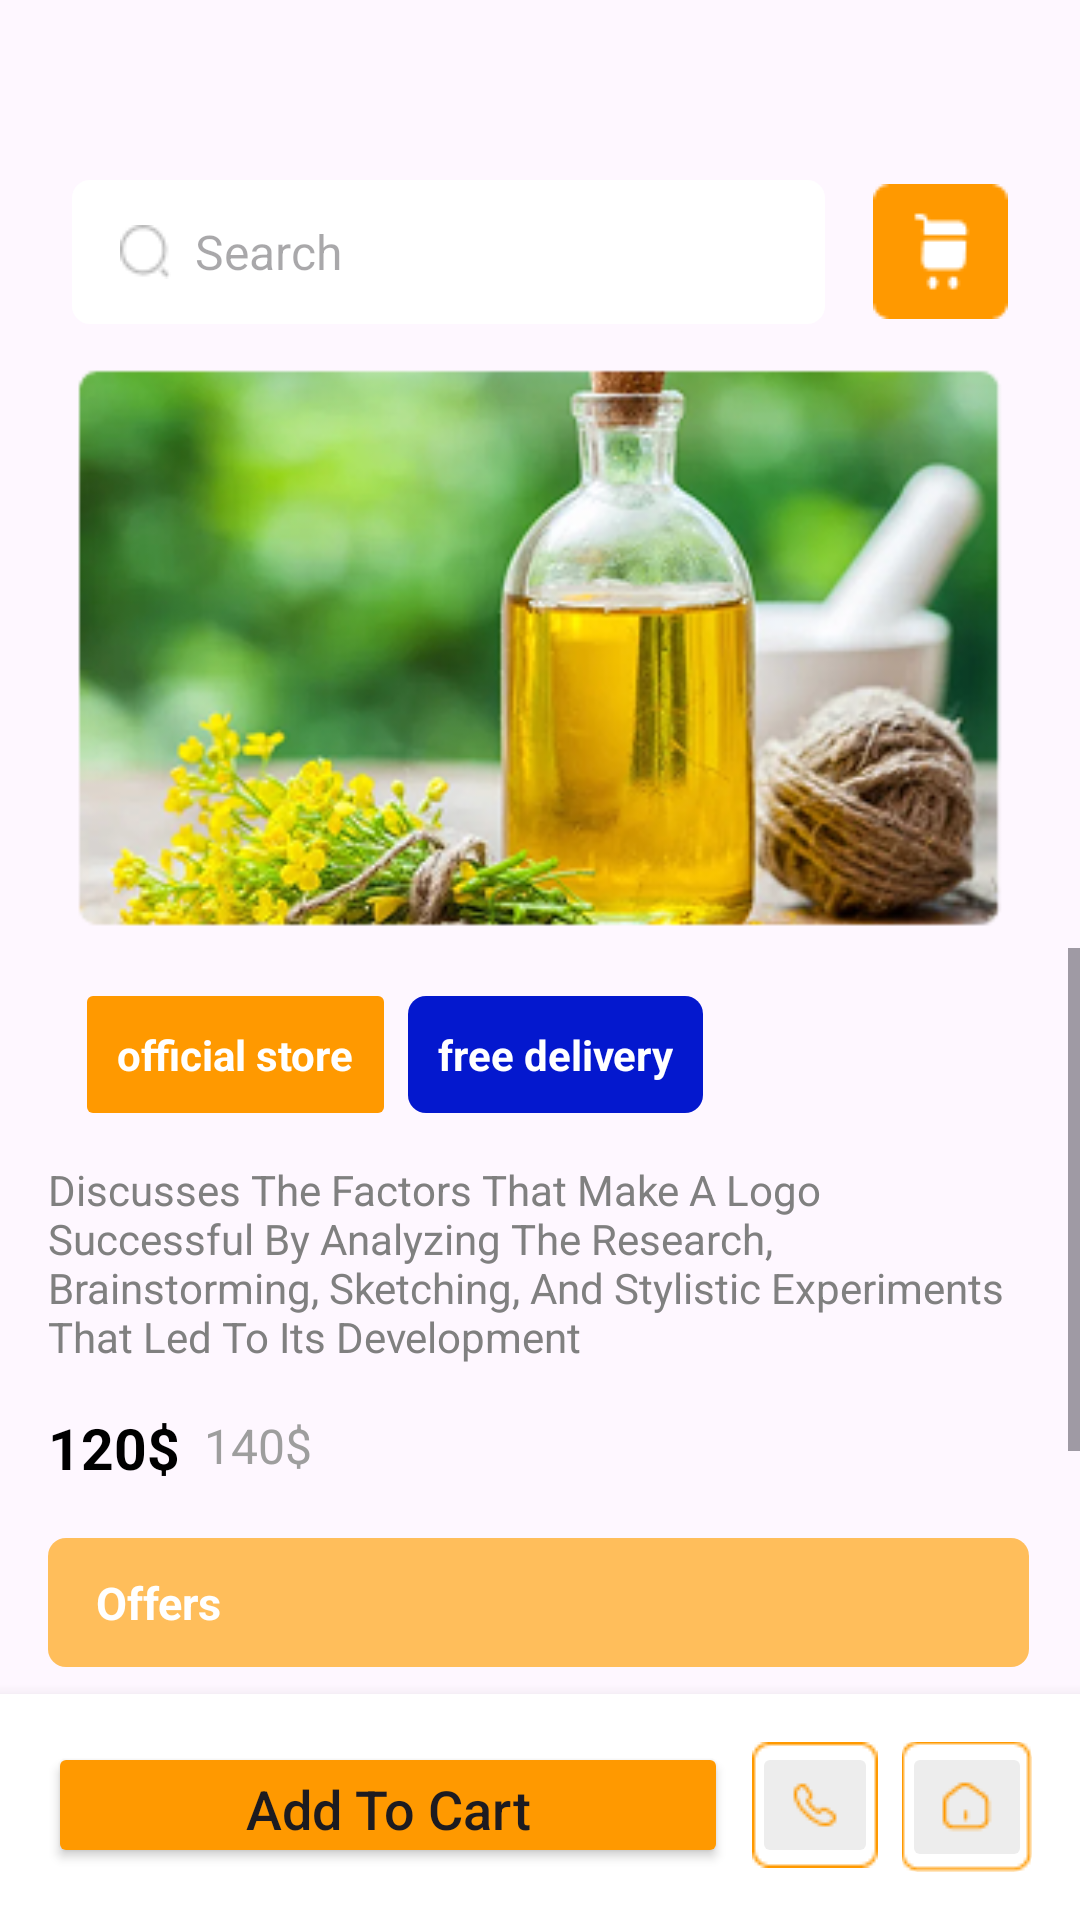

Locate icon controls on the screen. Image size 1080x1920, boxes as (x1, y1, x2, y2).
Call Button: (752, 1742, 878, 1868)
Small Cart Icon: (873, 184, 1008, 319)
